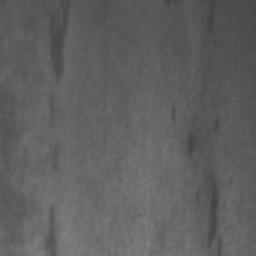Inclusion: (49, 1, 72, 81), (209, 187, 220, 247), (45, 207, 56, 256)
